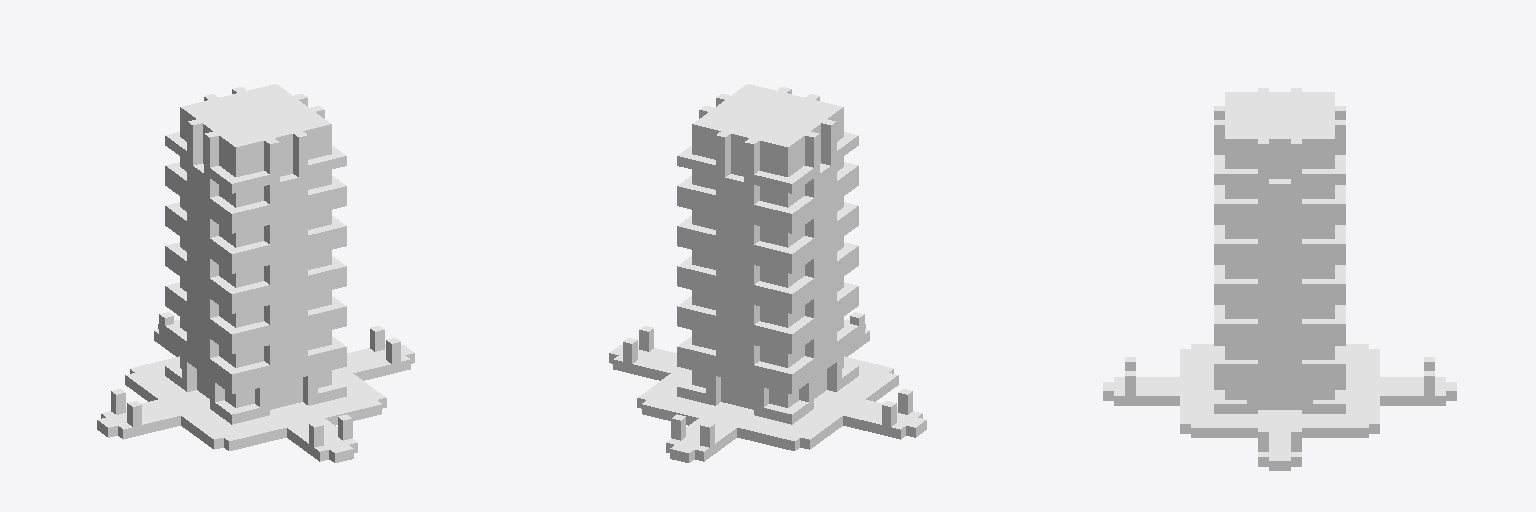
The model's file is House4.obj.
The picture shows the model from 3 angles: view 1: azimuth 30°, elevation 25°; view 2: azimuth 150°, elevation 25°; view 3: azimuth 270°, elevation 25°; orthographic projection.
Visible parts, largest first — view 1: object 1; view 2: object 1; view 3: object 1.
Boxes of the visible parts, x1=… form: object 1: x1=97, y1=84, x2=414, y2=462; object 1: x1=609, y1=84, x2=926, y2=462; object 1: x1=1103, y1=88, x2=1456, y2=470.
Bounding box in the file's own units: 3.2 × 2.8 × 3.2.